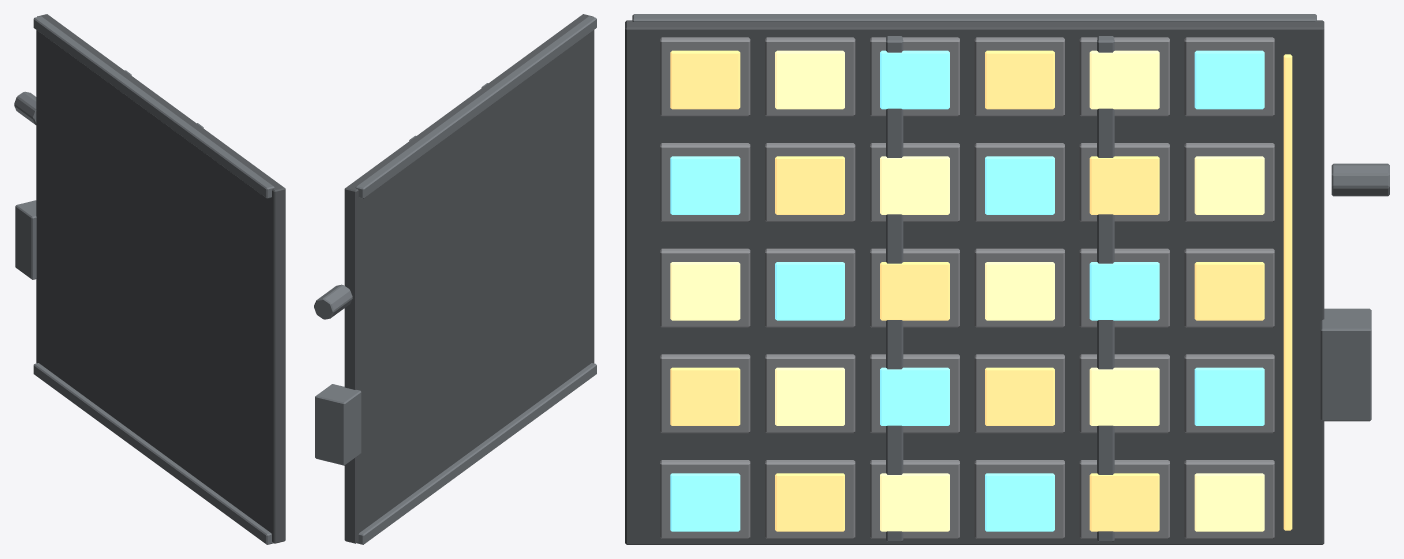
File: facade_windowed_l.glb
The picture shows the model from 3 angles, left to right: view 1: azimuth 30°, elevation 25°; view 2: azimuth 150°, elevation 25°; view 3: azimuth 270°, elevation 25°; orthographic projection. The views are drawn at different scales.
Parts seen in each view (by area): view 1: FacadeWindowed_L; view 2: FacadeWindowed_L; view 3: FacadeWindowed_L.
Boxes of the visible parts, <box> form: FacadeWindowed_L: <box>14,14,285,544</box>; FacadeWindowed_L: <box>314,14,596,544</box>; FacadeWindowed_L: <box>625,14,1389,544</box>.
Bounding box in the file's own units: 0.355 × 3.96 × 5.25.
